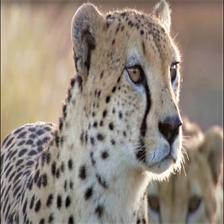Cheetah: (1, 0, 183, 224), (123, 106, 223, 224)
